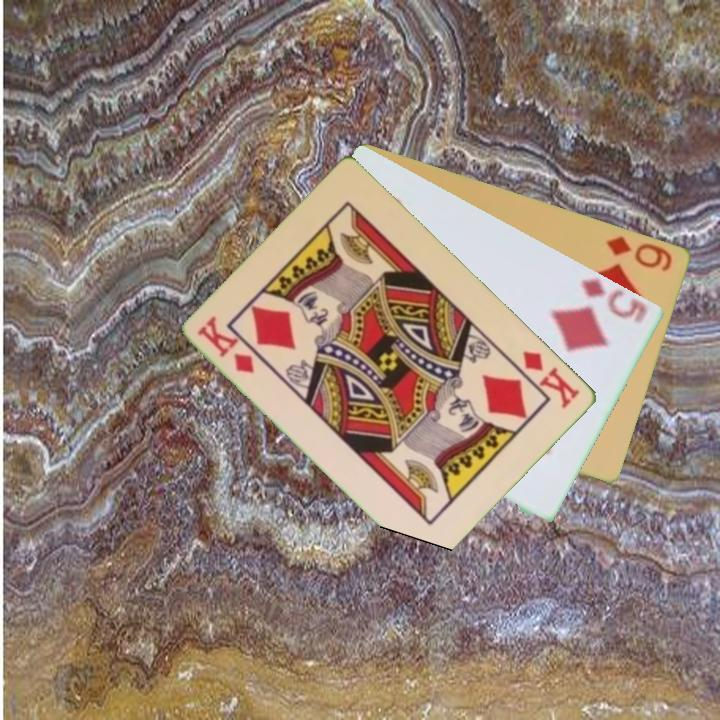5d: (579, 275, 651, 326)
6d: (603, 232, 676, 274)
Kd: (519, 346, 584, 412), (194, 313, 258, 377)
